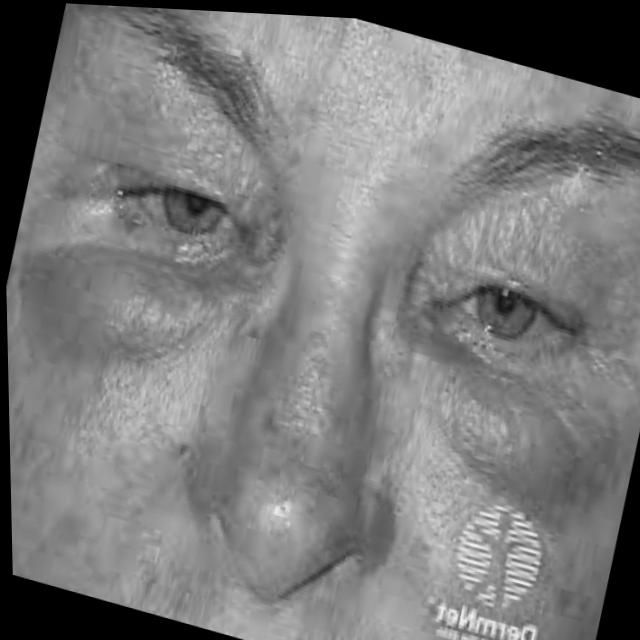Rosacea: (5, 207, 237, 618), (359, 345, 640, 640), (240, 309, 357, 487)
